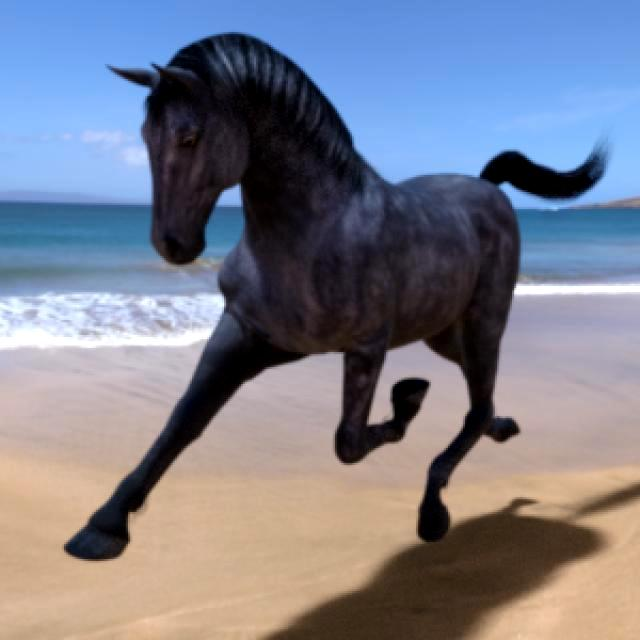horse: (65, 38, 606, 558)
